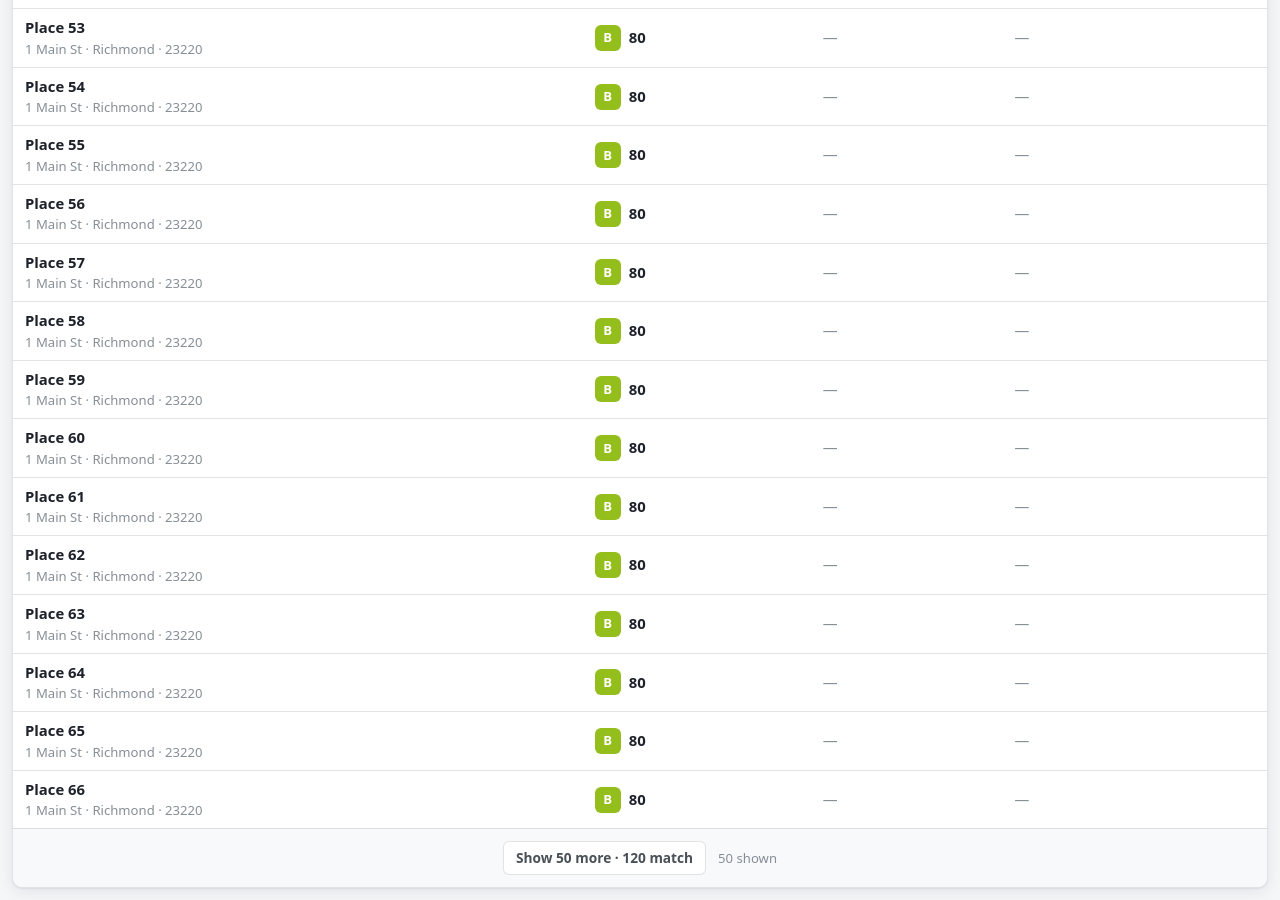
Test case: load-more reveals 50 per chunk, labels per the mockup, and drives page=N
(page scrolled)
Click the button "Show 50 more · 120 match". click: (605, 858)
box: [503, 841, 706, 875]
(page scrolled)
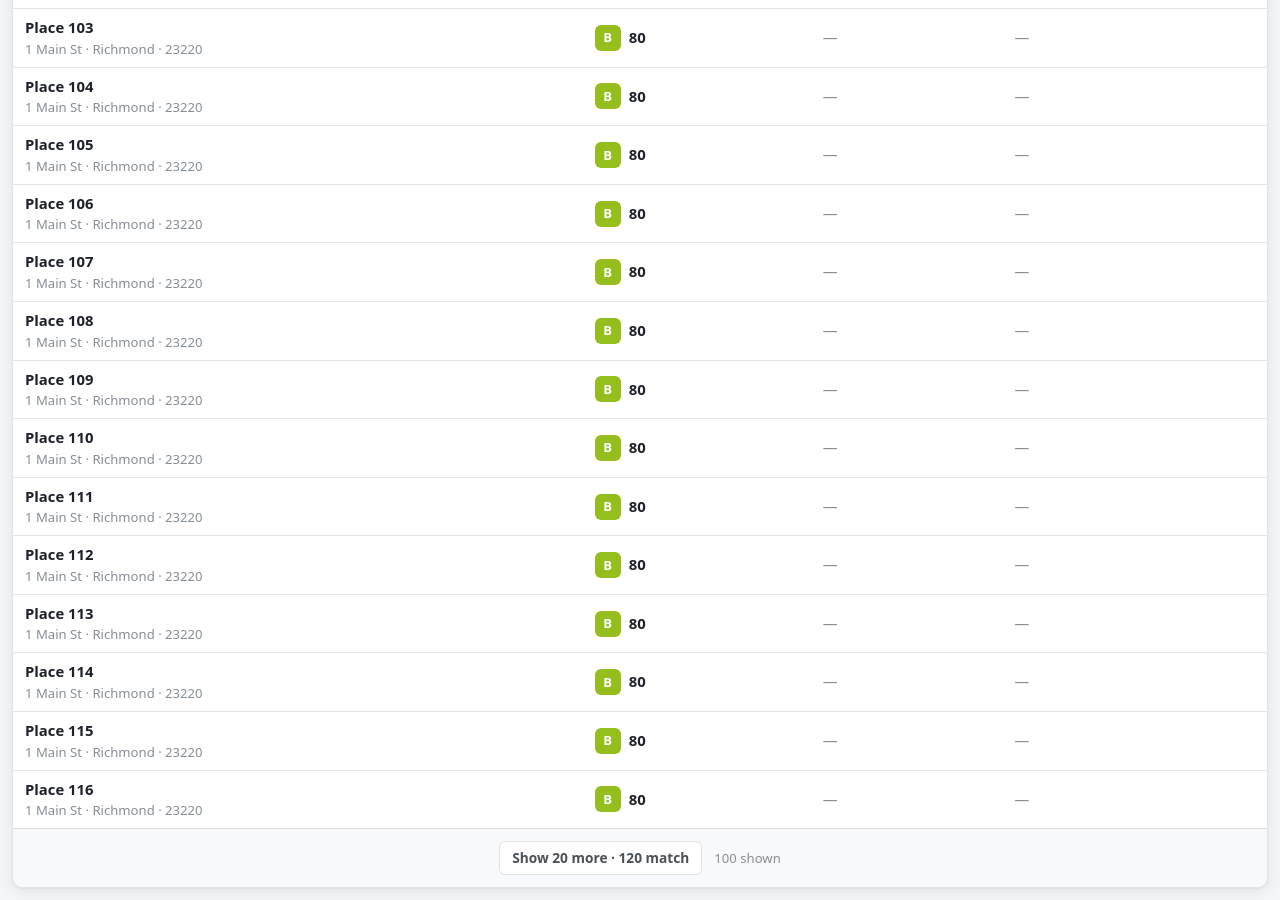
Now the button "Show 20 more · 120 match" is shown, box [499, 841, 702, 875]
